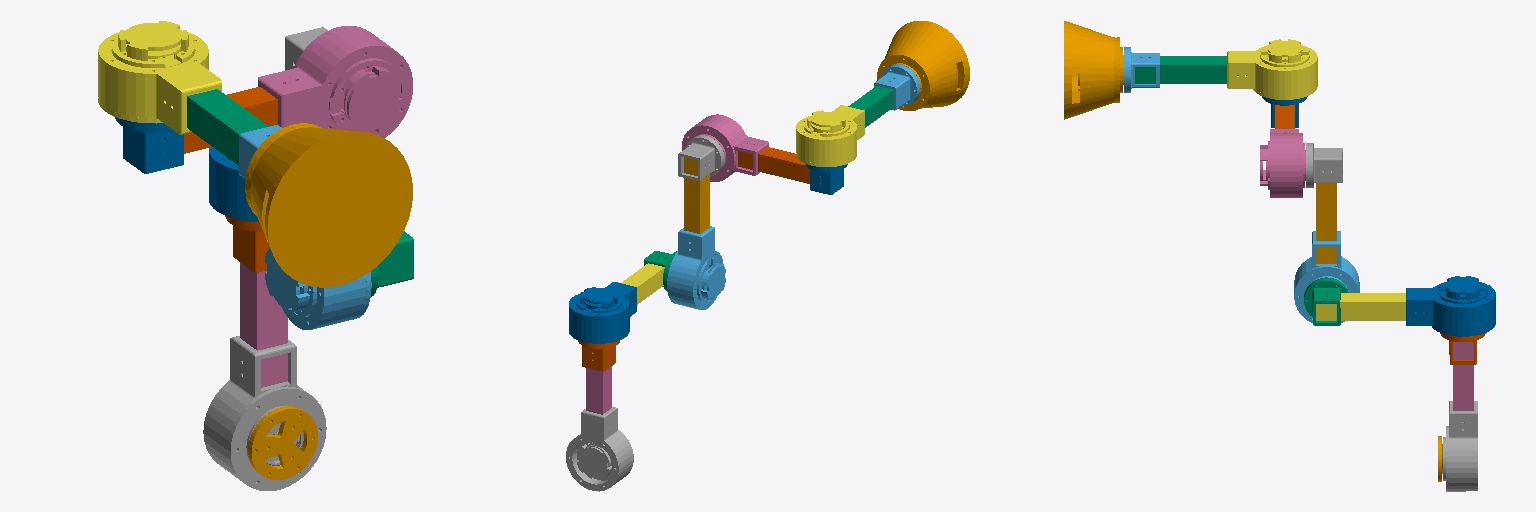
robot.urdf — Auto-Generated: e16498539e484290a325efdbab19efc2:
<robot name="Auto-Generated: e16498539e484290a325efdbab19efc2">
	<link name="base_rev_joint.base_motor_link">
		<inertial>
			<origin xyz="1.6355e-05 -2.1044e-06 -0.030945" rpy="3.141592653589793 0.0 0.0" />
			<mass value="1.1937" />
			<inertia ixx="0.0011798" ixy="-3.4788e-08" ixz="2.8837e-07" iyy="0.0010863" iyz="5.0519e-08" izz="0.0016066" />
		</inertial>
		<visual name="base_rev_joint.base_motor_link_visual">
			<origin xyz="0.0 0.0 0.0" rpy="3.141592653589793 0.0 0.0" />
			<geometry>
				<mesh filename="assets/Assem_4310_BASE/Assem_4310_BASE/meshes/base_motor_link.STL" scale="1.0 1.0 1.0" />
			</geometry>
		</visual>
		<collision name="base_rev_joint.base_motor_link_collision">
			<origin xyz="0.0 0.0 0.0" rpy="3.141592653589793 0.0 0.0" />
			<geometry>
				<mesh filename="assets/Assem_4310_BASE/Assem_4310_BASE/meshes/base_motor_link.STL" scale="1.0 1.0 1.0" />
			</geometry>
		</collision>
	</link>
	<link name="base_rev_joint.base_out_link">
		<inertial>
			<origin xyz="2.3272e-17 0.0011054 0.008691" rpy="0.0 0.0 0.0" />
			<mass value="0.088545" />
			<inertia ixx="2.4599e-05" ixy="-1.5532e-21" ixz="3.7828e-22" iyy="2.5766e-05" iyz="-7.8406e-07" izz="3.0632e-05" />
		</inertial>
		<visual name="base_rev_joint.base_out_link_visual">
			<origin xyz="0.0 0.0 0.0" rpy="0.0 0.0 0.0" />
			<geometry>
				<mesh filename="assets/Assem_4310_BASE/Assem_4310_BASE/meshes/base_out_link.STL" scale="1.0 1.0 1.0" />
			</geometry>
		</visual>
		<collision name="base_rev_joint.base_out_link_collision">
			<origin xyz="0.0 0.0 0.0" rpy="0.0 0.0 0.0" />
			<geometry>
				<mesh filename="assets/Assem_4310_BASE/Assem_4310_BASE/meshes/base_out_link.STL" scale="1.0 1.0 1.0" />
			</geometry>
		</collision>
	</link>
	<link name="baseto4310-0.15.baseto4310-0.15">
		<inertial>
			<origin xyz="0.0 0.0 -0.075" rpy="0.0 0.0 0.0" />
			<mass value="9.375000000000002e-05" />
			<inertia ixx="1.7822265625e-07" ixy="0.0" ixz="0.0" iyy="1.7822265625e-07" iyz="0.0" izz="4.882812500000001e-09" />
		</inertial>
		<visual name="baseto4310-0.15.baseto4310-0.15_visual">
			<origin xyz="0.0 0.0 -0.075" rpy="0.0 0.0 0.0" />
			<geometry>
				<box size="0.025 0.025 0.15" />
			</geometry>
		</visual>
		<collision name="baseto4310-0.15.baseto4310-0.15_collision">
			<origin xyz="0.0 0.0 -0.075" rpy="0.0 0.0 0.0" />
			<geometry>
				<box size="0.025 0.025 0.15" />
			</geometry>
		</collision>
	</link>
	<link name="motor4310_rev_joint.motor4310_in_link">
		<inertial>
			<origin xyz="0.0012212 -4.3571e-06 0.035478" rpy="0.0 0.0 0.0" />
			<mass value="0.57649" />
			<inertia ixx="0.00051876" ixy="-5.0519e-08" ixz="-5.0469e-06" iyy="0.00039258" iyz="3.4788e-08" izz="0.00029808" />
		</inertial>
		<visual name="motor4310_rev_joint.motor4310_in_link_visual">
			<origin xyz="0.0 0.0 0.0" rpy="0.0 0.0 0.0" />
			<geometry>
				<mesh filename="assets/Assem_4310_JOINT/Assem_4310_JOINT/meshes/motor4310_in_link.STL" scale="1.0 1.0 1.0" />
			</geometry>
		</visual>
		<collision name="motor4310_rev_joint.motor4310_in_link_collision">
			<origin xyz="0.0 0.0 0.0" rpy="0.0 0.0 0.0" />
			<geometry>
				<mesh filename="assets/Assem_4310_JOINT/Assem_4310_JOINT/meshes/motor4310_in_link.STL" scale="1.0 1.0 1.0" />
			</geometry>
		</collision>
	</link>
	<link name="motor4310_rev_joint.motor4310_out_link">
		<inertial>
			<origin xyz="-2.5332e-10 -0.013691 0.0011054" rpy="0.0 0.0 0.0" />
			<mass value="0.088545" />
			<inertia ixx="2.4599e-05" ixy="-3.8934e-22" ixz="-1.8263e-21" iyy="3.0632e-05" iyz="7.8406e-07" izz="2.5766e-05" />
		</inertial>
		<visual name="motor4310_rev_joint.motor4310_out_link_visual">
			<origin xyz="0.0 0.0 0.0" rpy="0.0 0.0 0.0" />
			<geometry>
				<mesh filename="assets/Assem_4310_JOINT/Assem_4310_JOINT/meshes/motor4310_out_link.STL" scale="1.0 1.0 1.0" />
			</geometry>
		</visual>
		<collision name="motor4310_rev_joint.motor4310_out_link_collision">
			<origin xyz="0.0 0.0 0.0" rpy="0.0 0.0 0.0" />
			<geometry>
				<mesh filename="assets/Assem_4310_JOINT/Assem_4310_JOINT/meshes/motor4310_out_link.STL" scale="1.0 1.0 1.0" />
			</geometry>
		</collision>
	</link>
	<link name="r4310to4310-0.15.r4310to4310-0.15">
		<inertial>
			<origin xyz="0.0 0.025 0.0625" rpy="0.0 0.0 0.0" />
			<mass value="9.375000000000002e-05" />
			<inertia ixx="1.7822265625e-07" ixy="0.0" ixz="0.0" iyy="1.7822265625e-07" iyz="0.0" izz="4.882812500000001e-09" />
		</inertial>
		<visual name="r4310to4310-0.15.r4310to4310-0.15_visual">
			<origin xyz="0.0 0.025 0.0625" rpy="0.0 0.0 0.0" />
			<geometry>
				<box size="0.025 0.025 0.15" />
			</geometry>
		</visual>
		<collision name="r4310to4310-0.15.r4310to4310-0.15_collision">
			<origin xyz="0.0 0.025 0.0625" rpy="0.0 0.0 0.0" />
			<geometry>
				<box size="0.025 0.025 0.15" />
			</geometry>
		</collision>
	</link>
	<link name="motor4310_rev_joint-1.motor4310_in_link">
		<inertial>
			<origin xyz="0.0012212 -4.3571e-06 0.035478" rpy="0.0 0.0 0.0" />
			<mass value="0.57649" />
			<inertia ixx="0.00051876" ixy="-5.0519e-08" ixz="-5.0469e-06" iyy="0.00039258" iyz="3.4788e-08" izz="0.00029808" />
		</inertial>
		<visual name="motor4310_rev_joint-1.motor4310_in_link_visual">
			<origin xyz="0.0 0.0 0.0" rpy="0.0 0.0 0.0" />
			<geometry>
				<mesh filename="assets/Assem_4310_JOINT/Assem_4310_JOINT/meshes/motor4310_in_link.STL" scale="1.0 1.0 1.0" />
			</geometry>
		</visual>
		<collision name="motor4310_rev_joint-1.motor4310_in_link_collision">
			<origin xyz="0.0 0.0 0.0" rpy="0.0 0.0 0.0" />
			<geometry>
				<mesh filename="assets/Assem_4310_JOINT/Assem_4310_JOINT/meshes/motor4310_in_link.STL" scale="1.0 1.0 1.0" />
			</geometry>
		</collision>
	</link>
	<link name="motor4310_rev_joint-1.motor4310_out_link">
		<inertial>
			<origin xyz="-2.5332e-10 -0.013691 0.0011054" rpy="0.0 0.0 0.0" />
			<mass value="0.088545" />
			<inertia ixx="2.4599e-05" ixy="-3.8934e-22" ixz="-1.8263e-21" iyy="3.0632e-05" iyz="7.8406e-07" izz="2.5766e-05" />
		</inertial>
		<visual name="motor4310_rev_joint-1.motor4310_out_link_visual">
			<origin xyz="0.0 0.0 0.0" rpy="0.0 0.0 0.0" />
			<geometry>
				<mesh filename="assets/Assem_4310_JOINT/Assem_4310_JOINT/meshes/motor4310_out_link.STL" scale="1.0 1.0 1.0" />
			</geometry>
		</visual>
		<collision name="motor4310_rev_joint-1.motor4310_out_link_collision">
			<origin xyz="0.0 0.0 0.0" rpy="0.0 0.0 0.0" />
			<geometry>
				<mesh filename="assets/Assem_4310_JOINT/Assem_4310_JOINT/meshes/motor4310_out_link.STL" scale="1.0 1.0 1.0" />
			</geometry>
		</collision>
	</link>
	<link name="r4310to4310-0.15-1.r4310to4310-0.15">
		<inertial>
			<origin xyz="0.0 0.025 0.0625" rpy="0.0 0.0 0.0" />
			<mass value="9.375000000000002e-05" />
			<inertia ixx="1.7822265625e-07" ixy="0.0" ixz="0.0" iyy="1.7822265625e-07" iyz="0.0" izz="4.882812500000001e-09" />
		</inertial>
		<visual name="r4310to4310-0.15-1.r4310to4310-0.15_visual">
			<origin xyz="0.0 0.025 0.0625" rpy="0.0 0.0 0.0" />
			<geometry>
				<box size="0.025 0.025 0.15" />
			</geometry>
		</visual>
		<collision name="r4310to4310-0.15-1.r4310to4310-0.15_collision">
			<origin xyz="0.0 0.025 0.0625" rpy="0.0 0.0 0.0" />
			<geometry>
				<box size="0.025 0.025 0.15" />
			</geometry>
		</collision>
	</link>
	<link name="motor4310_rev_joint-2.motor4310_in_link">
		<inertial>
			<origin xyz="0.0012212 -4.3571e-06 0.035478" rpy="0.0 0.0 0.0" />
			<mass value="0.57649" />
			<inertia ixx="0.00051876" ixy="-5.0519e-08" ixz="-5.0469e-06" iyy="0.00039258" iyz="3.4788e-08" izz="0.00029808" />
		</inertial>
		<visual name="motor4310_rev_joint-2.motor4310_in_link_visual">
			<origin xyz="0.0 0.0 0.0" rpy="0.0 0.0 0.0" />
			<geometry>
				<mesh filename="assets/Assem_4310_JOINT/Assem_4310_JOINT/meshes/motor4310_in_link.STL" scale="1.0 1.0 1.0" />
			</geometry>
		</visual>
		<collision name="motor4310_rev_joint-2.motor4310_in_link_collision">
			<origin xyz="0.0 0.0 0.0" rpy="0.0 0.0 0.0" />
			<geometry>
				<mesh filename="assets/Assem_4310_JOINT/Assem_4310_JOINT/meshes/motor4310_in_link.STL" scale="1.0 1.0 1.0" />
			</geometry>
		</collision>
	</link>
	<link name="motor4310_rev_joint-2.motor4310_out_link">
		<inertial>
			<origin xyz="-2.5332e-10 -0.013691 0.0011054" rpy="0.0 0.0 0.0" />
			<mass value="0.088545" />
			<inertia ixx="2.4599e-05" ixy="-3.8934e-22" ixz="-1.8263e-21" iyy="3.0632e-05" iyz="7.8406e-07" izz="2.5766e-05" />
		</inertial>
		<visual name="motor4310_rev_joint-2.motor4310_out_link_visual">
			<origin xyz="0.0 0.0 0.0" rpy="0.0 0.0 0.0" />
			<geometry>
				<mesh filename="assets/Assem_4310_JOINT/Assem_4310_JOINT/meshes/motor4310_out_link.STL" scale="1.0 1.0 1.0" />
			</geometry>
		</visual>
		<collision name="motor4310_rev_joint-2.motor4310_out_link_collision">
			<origin xyz="0.0 0.0 0.0" rpy="0.0 0.0 0.0" />
			<geometry>
				<mesh filename="assets/Assem_4310_JOINT/Assem_4310_JOINT/meshes/motor4310_out_link.STL" scale="1.0 1.0 1.0" />
			</geometry>
		</collision>
	</link>
	<link name="r4310to4310-0.15-2.r4310to4310-0.15">
		<inertial>
			<origin xyz="0.0 0.025 0.0625" rpy="0.0 0.0 0.0" />
			<mass value="9.375000000000002e-05" />
			<inertia ixx="1.7822265625e-07" ixy="0.0" ixz="0.0" iyy="1.7822265625e-07" iyz="0.0" izz="4.882812500000001e-09" />
		</inertial>
		<visual name="r4310to4310-0.15-2.r4310to4310-0.15_visual">
			<origin xyz="0.0 0.025 0.0625" rpy="0.0 0.0 0.0" />
			<geometry>
				<box size="0.025 0.025 0.15" />
			</geometry>
		</visual>
		<collision name="r4310to4310-0.15-2.r4310to4310-0.15_collision">
			<origin xyz="0.0 0.025 0.0625" rpy="0.0 0.0 0.0" />
			<geometry>
				<box size="0.025 0.025 0.15" />
			</geometry>
		</collision>
	</link>
	<link name="motor4310_rev_joint-3.motor4310_in_link">
		<inertial>
			<origin xyz="0.0012212 -4.3571e-06 0.035478" rpy="0.0 0.0 0.0" />
			<mass value="0.57649" />
			<inertia ixx="0.00051876" ixy="-5.0519e-08" ixz="-5.0469e-06" iyy="0.00039258" iyz="3.4788e-08" izz="0.00029808" />
		</inertial>
		<visual name="motor4310_rev_joint-3.motor4310_in_link_visual">
			<origin xyz="0.0 0.0 0.0" rpy="0.0 0.0 0.0" />
			<geometry>
				<mesh filename="assets/Assem_4310_JOINT/Assem_4310_JOINT/meshes/motor4310_in_link.STL" scale="1.0 1.0 1.0" />
			</geometry>
		</visual>
		<collision name="motor4310_rev_joint-3.motor4310_in_link_collision">
			<origin xyz="0.0 0.0 0.0" rpy="0.0 0.0 0.0" />
			<geometry>
				<mesh filename="assets/Assem_4310_JOINT/Assem_4310_JOINT/meshes/motor4310_in_link.STL" scale="1.0 1.0 1.0" />
			</geometry>
		</collision>
	</link>
	<link name="motor4310_rev_joint-3.motor4310_out_link">
		<inertial>
			<origin xyz="-2.5332e-10 -0.013691 0.0011054" rpy="0.0 0.0 0.0" />
			<mass value="0.088545" />
			<inertia ixx="2.4599e-05" ixy="-3.8934e-22" ixz="-1.8263e-21" iyy="3.0632e-05" iyz="7.8406e-07" izz="2.5766e-05" />
		</inertial>
		<visual name="motor4310_rev_joint-3.motor4310_out_link_visual">
			<origin xyz="0.0 0.0 0.0" rpy="0.0 0.0 0.0" />
			<geometry>
				<mesh filename="assets/Assem_4310_JOINT/Assem_4310_JOINT/meshes/motor4310_out_link.STL" scale="1.0 1.0 1.0" />
			</geometry>
		</visual>
		<collision name="motor4310_rev_joint-3.motor4310_out_link_collision">
			<origin xyz="0.0 0.0 0.0" rpy="0.0 0.0 0.0" />
			<geometry>
				<mesh filename="assets/Assem_4310_JOINT/Assem_4310_JOINT/meshes/motor4310_out_link.STL" scale="1.0 1.0 1.0" />
			</geometry>
		</collision>
	</link>
	<link name="r4310to4305-0.15.r4310to4305-0.15">
		<inertial>
			<origin xyz="0.0 0.0625 0.0" rpy="-1.5707963267948966 0.0 0.0" />
			<mass value="9.375000000000002e-05" />
			<inertia ixx="1.7822265625e-07" ixy="0.0" ixz="0.0" iyy="1.7822265625e-07" iyz="0.0" izz="4.882812500000001e-09" />
		</inertial>
		<visual name="r4310to4305-0.15.r4310to4305-0.15_visual">
			<origin xyz="0.0 0.0625 0.0" rpy="-1.5707963267948966 0.0 0.0" />
			<geometry>
				<box size="0.025 0.025 0.15" />
			</geometry>
		</visual>
		<collision name="r4310to4305-0.15.r4310to4305-0.15_collision">
			<origin xyz="0.0 0.0625 0.0" rpy="-1.5707963267948966 0.0 0.0" />
			<geometry>
				<box size="0.025 0.025 0.15" />
			</geometry>
		</collision>
	</link>
	<link name="motor4305_rev_joint.motor4305_link">
		<inertial>
			<origin xyz="0.0042941 1.4489e-06 0.034665" rpy="0.0 0.0 0.0" />
			<mass value="0.48076" />
			<inertia ixx="0.0004787" ixy="5.7034e-09" ixz="-5.2375e-06" iyy="0.000333" iyz="1.5111e-08" izz="0.00023888" />
		</inertial>
		<visual name="motor4305_rev_joint.motor4305_link_visual">
			<origin xyz="0.0 0.0 0.0" rpy="0.0 0.0 0.0" />
			<geometry>
				<mesh filename="assets/Assem_4305_JOINT/Assem_4305_JOINT/meshes/motor4305_link.STL" scale="1.0 1.0 1.0" />
			</geometry>
		</visual>
		<collision name="motor4305_rev_joint.motor4305_link_collision">
			<origin xyz="0.0 0.0 0.0" rpy="0.0 0.0 0.0" />
			<geometry>
				<mesh filename="assets/Assem_4305_JOINT/Assem_4305_JOINT/meshes/motor4305_link.STL" scale="1.0 1.0 1.0" />
			</geometry>
		</collision>
	</link>
	<link name="motor4305_rev_joint.motor4305_out_link">
		<inertial>
			<origin xyz="-1.3533e-08 -0.0025 -3.5182e-09" rpy="0.0 0.0 0.0" />
			<mass value="0.026746" />
			<inertia ixx="5.4686e-06" ixy="4.832e-22" ixz="-3.7058e-22" iyy="1.0826e-05" iyz="-3.2034e-22" izz="5.4686e-06" />
		</inertial>
		<visual name="motor4305_rev_joint.motor4305_out_link_visual">
			<origin xyz="0.0 0.0 0.0" rpy="0.0 0.0 0.0" />
			<geometry>
				<mesh filename="assets/Assem_4305_JOINT/Assem_4305_JOINT/meshes/motor4305_out_link.STL" scale="1.0 1.0 1.0" />
			</geometry>
		</visual>
		<collision name="motor4305_rev_joint.motor4305_out_link_collision">
			<origin xyz="0.0 0.0 0.0" rpy="0.0 0.0 0.0" />
			<geometry>
				<mesh filename="assets/Assem_4305_JOINT/Assem_4305_JOINT/meshes/motor4305_out_link.STL" scale="1.0 1.0 1.0" />
			</geometry>
		</collision>
	</link>
	<link name="motor4305_rev_joint.motor4305_out_link.motor4305_out_linkconnector.body" />
	<joint name="base_rev_joint.base_rev_joint" type="revolute">
		<origin xyz="0.0 0.077 -0.0" rpy="1.570800001041897 1.5707926535897991 -3.14159265254789" />
		<parent link="base_rev_joint.base_motor_link" />
		<child link="base_rev_joint.base_out_link" />
		<axis xyz="0 0 1" />
		<dynamics damping="0.0" friction="0.0" />
		<limit lower="-3.141592653589793" upper="3.141592653589793" effort="1000.0" velocity="10.0" />
	</joint>
	<joint name="baseto4310-0.15.baseto4310-0.15.2-1" type="fixed">
		<origin xyz="0.0 0.0 0.0" rpy="3.141592653589793 0.0 0.0" />
		<parent link="base_rev_joint.base_out_link" />
		<child link="baseto4310-0.15.baseto4310-0.15" />
	</joint>
	<joint name="motor4310_rev_joint.motor4310_in_link.motor4310_in_linkconnector" type="fixed">
		<origin xyz="0.0 0.0 -0.15" rpy="1.5707963267948966 0.0 0.0" />
		<parent link="baseto4310-0.15.baseto4310-0.15" />
		<child link="motor4310_rev_joint.motor4310_in_link" />
	</joint>
	<joint name="motor4310_rev_joint.motor4310_rev_joint" type="revolute">
		<origin xyz="0.0255 -0.0395 0.0" rpy="0.0 0.0 1.5699999999999987" />
		<parent link="motor4310_rev_joint.motor4310_in_link" />
		<child link="motor4310_rev_joint.motor4310_out_link" />
		<axis xyz="0 0 1" />
		<dynamics damping="0.0" friction="0.0" />
		<limit lower="-3.141592653589793" upper="3.141592653589793" effort="1000.0" velocity="10.0" />
	</joint>
	<joint name="r4310to4310-0.15.r4310to4310-0.15.2-1" type="fixed">
		<origin xyz="0.0 0.0 0.0" rpy="3.141592653589793 0.0 0.0" />
		<parent link="motor4310_rev_joint.motor4310_out_link" />
		<child link="r4310to4310-0.15.r4310to4310-0.15" />
	</joint>
	<joint name="motor4310_rev_joint-1.motor4310_in_link.motor4310_in_linkconnector" type="fixed">
		<origin xyz="0.0 0.025 0.125" rpy="-1.5707963267948966 0.0 -3.141592653589793" />
		<parent link="r4310to4310-0.15.r4310to4310-0.15" />
		<child link="motor4310_rev_joint-1.motor4310_in_link" />
	</joint>
	<joint name="motor4310_rev_joint-1.motor4310_rev_joint" type="revolute">
		<origin xyz="0.02549999999838 -0.03949999999748 0.0" rpy="0.0 0.0 1.56999999997889" />
		<parent link="motor4310_rev_joint-1.motor4310_in_link" />
		<child link="motor4310_rev_joint-1.motor4310_out_link" />
		<axis xyz="0 0 1" />
		<dynamics damping="0.0" friction="0.0" />
		<limit lower="-3.141592653589793" upper="3.141592653589793" effort="1000.0" velocity="10.0" />
	</joint>
	<joint name="r4310to4310-0.15-1.r4310to4310-0.15.2-1" type="fixed">
		<origin xyz="0.0 0.0 0.0" rpy="3.141592653589793 0.0 0.0" />
		<parent link="motor4310_rev_joint-1.motor4310_out_link" />
		<child link="r4310to4310-0.15-1.r4310to4310-0.15" />
	</joint>
	<joint name="motor4310_rev_joint-2.motor4310_in_link.motor4310_in_linkconnector" type="fixed">
		<origin xyz="0.0 0.025 0.125" rpy="-1.5707963267948966 0.0 -3.141592653589793" />
		<parent link="r4310to4310-0.15-1.r4310to4310-0.15" />
		<child link="motor4310_rev_joint-2.motor4310_in_link" />
	</joint>
	<joint name="motor4310_rev_joint-2.motor4310_rev_joint" type="revolute">
		<origin xyz="0.02549999999838 -0.03949999999748 0.0" rpy="0.0 0.0 1.56999999997889" />
		<parent link="motor4310_rev_joint-2.motor4310_in_link" />
		<child link="motor4310_rev_joint-2.motor4310_out_link" />
		<axis xyz="0 0 1" />
		<dynamics damping="0.0" friction="0.0" />
		<limit lower="-3.141592653589793" upper="3.141592653589793" effort="1000.0" velocity="10.0" />
	</joint>
	<joint name="r4310to4310-0.15-2.r4310to4310-0.15.2-1" type="fixed">
		<origin xyz="0.0 0.0 0.0" rpy="3.141592653589793 0.0 0.0" />
		<parent link="motor4310_rev_joint-2.motor4310_out_link" />
		<child link="r4310to4310-0.15-2.r4310to4310-0.15" />
	</joint>
	<joint name="motor4310_rev_joint-3.motor4310_in_link.motor4310_in_linkconnector" type="fixed">
		<origin xyz="0.0 0.025 0.125" rpy="-1.5707963267948966 0.0 -3.141592653589793" />
		<parent link="r4310to4310-0.15-2.r4310to4310-0.15" />
		<child link="motor4310_rev_joint-3.motor4310_in_link" />
	</joint>
	<joint name="motor4310_rev_joint-3.motor4310_rev_joint" type="revolute">
		<origin xyz="0.02549999999838 -0.03949999999748 0.0" rpy="0.0 0.0 1.56999999997889" />
		<parent link="motor4310_rev_joint-3.motor4310_in_link" />
		<child link="motor4310_rev_joint-3.motor4310_out_link" />
		<axis xyz="0 0 1" />
		<dynamics damping="0.0" friction="0.0" />
		<limit lower="-3.141592653589793" upper="3.141592653589793" effort="1000.0" velocity="10.0" />
	</joint>
	<joint name="r4310to4305-0.15.r4310to4305-0.15.2-1" type="fixed">
		<origin xyz="0.0 0.0 0.0" rpy="3.141592653589793 0.0 0.0" />
		<parent link="motor4310_rev_joint-3.motor4310_out_link" />
		<child link="r4310to4305-0.15.r4310to4305-0.15" />
	</joint>
	<joint name="motor4305_rev_joint.motor4305_link.motor4305_linkconnector" type="fixed">
		<origin xyz="0.0 0.1375 0.0" rpy="3.141592653589793 0.0 0.0" />
		<parent link="r4310to4305-0.15.r4310to4305-0.15" />
		<child link="motor4305_rev_joint.motor4305_link" />
	</joint>
	<joint name="motor4305_rev_joint.motor4305_rev_joint" type="revolute">
		<origin xyz="0.0255 -0.0395 0.0" rpy="8.881784197001252e-16 0.03299200000000324 1.570800000000002" />
		<parent link="motor4305_rev_joint.motor4305_link" />
		<child link="motor4305_rev_joint.motor4305_out_link" />
		<axis xyz="0 0 1" />
		<dynamics damping="0.0" friction="0.0" />
		<limit lower="-3.141592653589793" upper="3.141592653589793" effort="1000.0" velocity="10.0" />
	</joint>
	<joint name="motor4305_rev_joint.motor4305_out_link.motor4305_out_linkconnector" type="fixed">
		<origin xyz="0.0 0.0 0.0" rpy="0.0 0.0 0.0" />
		<parent link="motor4305_rev_joint.motor4305_out_link" />
		<child link="motor4305_rev_joint.motor4305_out_link.motor4305_out_linkconnector.body" />
	</joint>
</robot>

--- Render facts (derived) ---
Views: 3 orthographic renders of the robot side by side, from view 1: azimuth 30°, elevation 25°; view 2: azimuth 150°, elevation 25°; view 3: azimuth 270°, elevation 25°.
Robot: Auto-Generated: e16498539e484290a325efdbab19efc2 — 18 links, 17 joints (6 revolute, 11 fixed); root link base_rev_joint.base_motor_link; default pose: every joint at zero.
Visible links, largest first — view 1: base_rev_joint.base_motor_link, motor4310_rev_joint-1.motor4310_in_link, motor4310_rev_joint.motor4310_in_link, motor4305_rev_joint.motor4305_link, motor4310_rev_joint-2.motor4310_in_link, r4310to4305-0.15.r4310to4305-0.15, motor4305_rev_joint.motor4305_out_link, baseto4310-0.15.baseto4310-0.15, motor4310_rev_joint.motor4310_out_link, motor4310_rev_joint-3.motor4310_in_link, motor4310_rev_joint-3.motor4310_out_link, motor4310_rev_joint-2.motor4310_out_link (+3 smaller); view 2: base_rev_joint.base_motor_link, motor4305_rev_joint.motor4305_link, motor4310_rev_joint-2.motor4310_in_link, motor4310_rev_joint.motor4310_in_link, motor4310_rev_joint-3.motor4310_in_link, motor4310_rev_joint-1.motor4310_in_link, r4310to4310-0.15-1.r4310to4310-0.15, r4310to4310-0.15.r4310to4310-0.15, motor4310_rev_joint-1.motor4310_out_link, base_rev_joint.base_out_link, r4310to4305-0.15.r4310to4305-0.15, baseto4310-0.15.baseto4310-0.15 (+3 smaller); view 3: base_rev_joint.base_motor_link, motor4310_rev_joint.motor4310_in_link, motor4310_rev_joint-3.motor4310_in_link, motor4310_rev_joint-1.motor4310_in_link, motor4305_rev_joint.motor4305_link, baseto4310-0.15.baseto4310-0.15, r4310to4310-0.15-2.r4310to4310-0.15, motor4310_rev_joint-2.motor4310_in_link, r4310to4310-0.15-1.r4310to4310-0.15, motor4310_rev_joint-1.motor4310_out_link, r4310to4305-0.15.r4310to4305-0.15, motor4310_rev_joint-2.motor4310_out_link (+1 smaller).
Boxes of the visible links, x1=… form: base_rev_joint.base_motor_link: x1=245, y1=123, x2=412, y2=287; motor4310_rev_joint-1.motor4310_in_link: x1=258, y1=26, x2=412, y2=137; motor4310_rev_joint.motor4310_in_link: x1=98, y1=21, x2=221, y2=134; motor4305_rev_joint.motor4305_link: x1=203, y1=336, x2=326, y2=490; motor4310_rev_joint-2.motor4310_in_link: x1=265, y1=247, x2=371, y2=329; r4310to4305-0.15.r4310to4305-0.15: x1=240, y1=262, x2=287, y2=387; motor4305_rev_joint.motor4305_out_link: x1=248, y1=406, x2=317, y2=479; baseto4310-0.15.baseto4310-0.15: x1=187, y1=89, x2=268, y2=165; motor4310_rev_joint.motor4310_out_link: x1=115, y1=117, x2=183, y2=173; motor4310_rev_joint-3.motor4310_in_link: x1=209, y1=147, x2=258, y2=221; motor4310_rev_joint-3.motor4310_out_link: x1=225, y1=216, x2=268, y2=272; motor4310_rev_joint-2.motor4310_out_link: x1=371, y1=231, x2=413, y2=296; base_rev_joint.base_motor_link: x1=877, y1=21, x2=969, y2=110; motor4305_rev_joint.motor4305_link: x1=566, y1=407, x2=633, y2=491; motor4310_rev_joint-2.motor4310_in_link: x1=667, y1=226, x2=725, y2=309; motor4310_rev_joint.motor4310_in_link: x1=796, y1=105, x2=864, y2=166; motor4310_rev_joint-3.motor4310_in_link: x1=569, y1=282, x2=636, y2=343; motor4310_rev_joint-1.motor4310_in_link: x1=682, y1=114, x2=768, y2=181; r4310to4310-0.15-1.r4310to4310-0.15: x1=684, y1=157, x2=709, y2=233; r4310to4310-0.15.r4310to4310-0.15: x1=738, y1=147, x2=809, y2=183; motor4310_rev_joint-1.motor4310_out_link: x1=678, y1=135, x2=724, y2=180; base_rev_joint.base_out_link: x1=874, y1=64, x2=919, y2=110; r4310to4305-0.15.r4310to4305-0.15: x1=586, y1=366, x2=611, y2=414; baseto4310-0.15.baseto4310-0.15: x1=848, y1=86, x2=892, y2=127; base_rev_joint.base_motor_link: x1=1064, y1=21, x2=1123, y2=119; motor4310_rev_joint.motor4310_in_link: x1=1227, y1=39, x2=1317, y2=99; motor4310_rev_joint-3.motor4310_in_link: x1=1406, y1=276, x2=1495, y2=336; motor4310_rev_joint-1.motor4310_in_link: x1=1260, y1=129, x2=1305, y2=197; motor4305_rev_joint.motor4305_link: x1=1442, y1=401, x2=1477, y2=491; baseto4310-0.15.baseto4310-0.15: x1=1135, y1=56, x2=1246, y2=83; r4310to4310-0.15-2.r4310to4310-0.15: x1=1316, y1=293, x2=1405, y2=320; motor4310_rev_joint-2.motor4310_in_link: x1=1294, y1=231, x2=1359, y2=322; r4310to4310-0.15-1.r4310to4310-0.15: x1=1316, y1=170, x2=1336, y2=263; motor4310_rev_joint-1.motor4310_out_link: x1=1306, y1=143, x2=1342, y2=187; r4310to4305-0.15.r4310to4305-0.15: x1=1453, y1=342, x2=1473, y2=421; motor4310_rev_joint-2.motor4310_out_link: x1=1304, y1=277, x2=1348, y2=325.
Bounding box of the posed robot: 0.3147 × 0.5211 × 0.5167 m (x, y, z).
Meshes: 6 distinct files referenced, 12 mesh visuals loaded (6 binary STL).